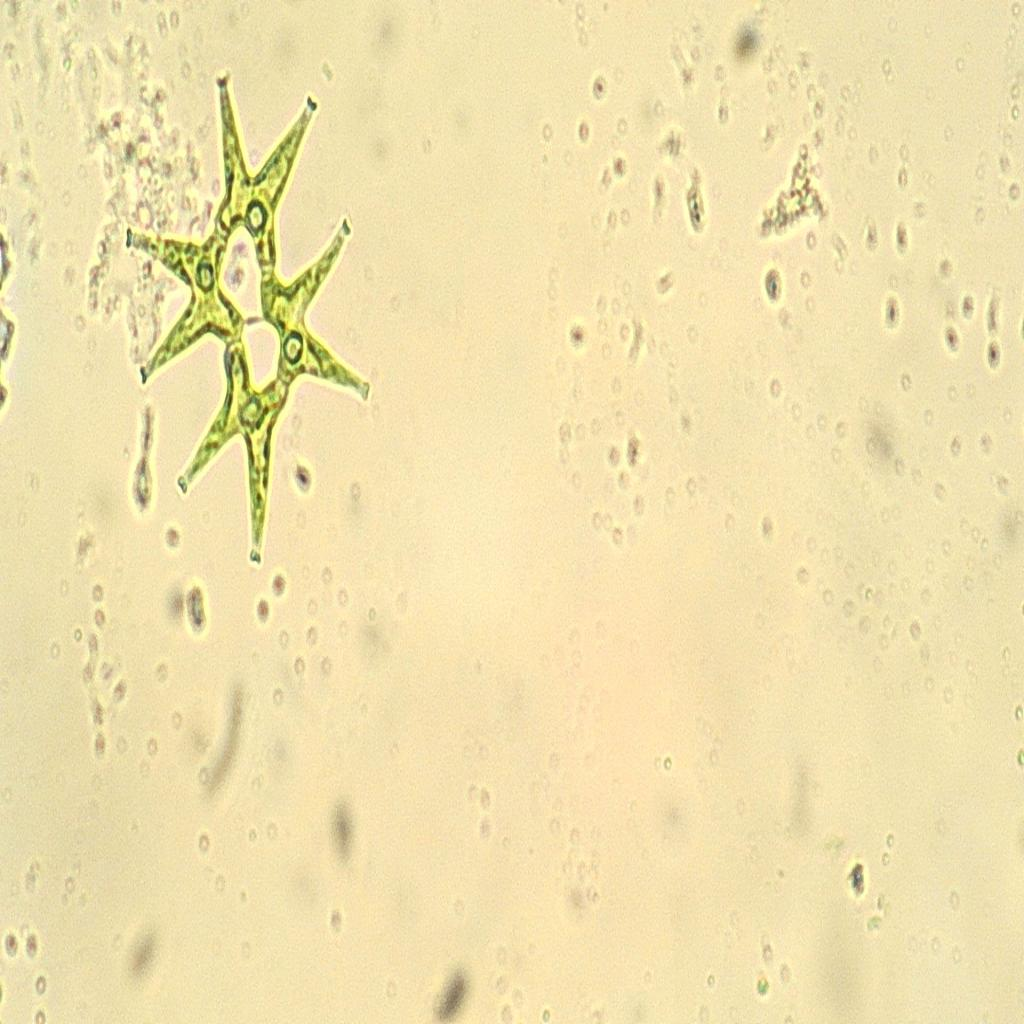Pediastrum_75FO: (120, 60, 380, 575)
